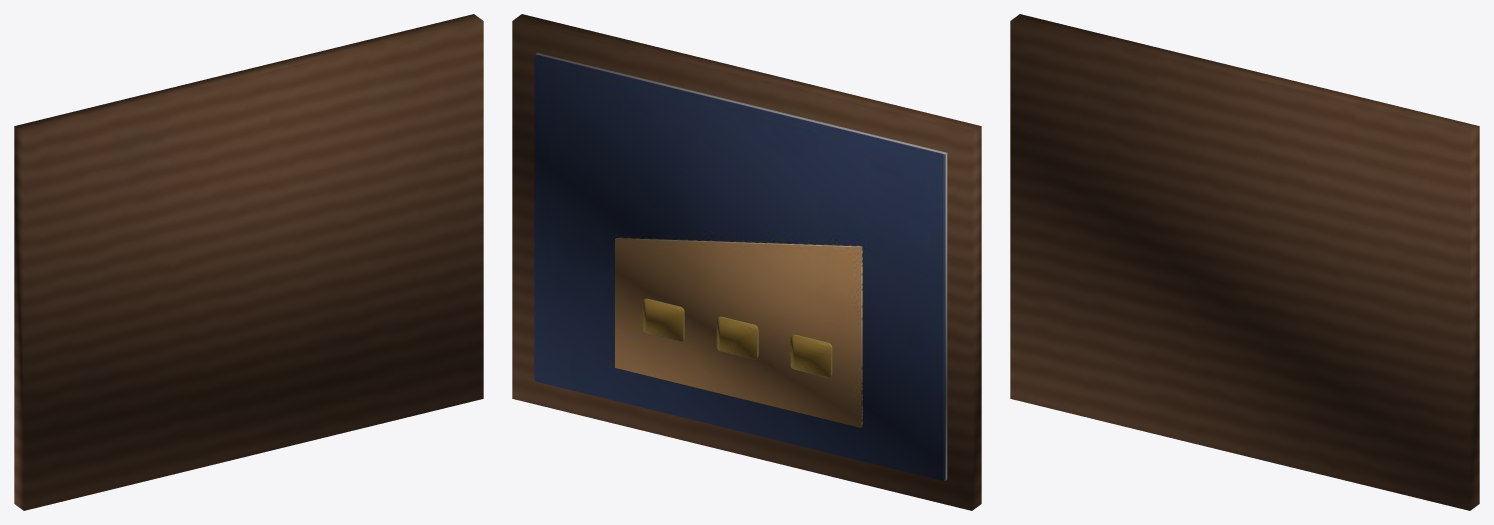
The model's file is picture_lodge.glb.
3 renders of one model, left to right at view 1: azimuth 30°, elevation 25°; view 2: azimuth 150°, elevation 25°; view 3: azimuth 330°, elevation 25°, orthographic.
Visible parts, largest first — view 1: prop_picture_lodge_wood; view 2: prop_picture_lodge_felt, prop_picture_lodge_wood; view 3: prop_picture_lodge_wood.
Part boxes in pixels (bbox=[...]): prop_picture_lodge_wood: bbox=[14, 14, 483, 510]; prop_picture_lodge_felt: bbox=[534, 52, 947, 481]; prop_picture_lodge_wood: bbox=[512, 14, 981, 510]; prop_picture_lodge_wood: bbox=[1010, 14, 1479, 510].
Bounding box in the file's own units: 1.12 × 0.88 × 0.062.
2 materials, 2 textured.
